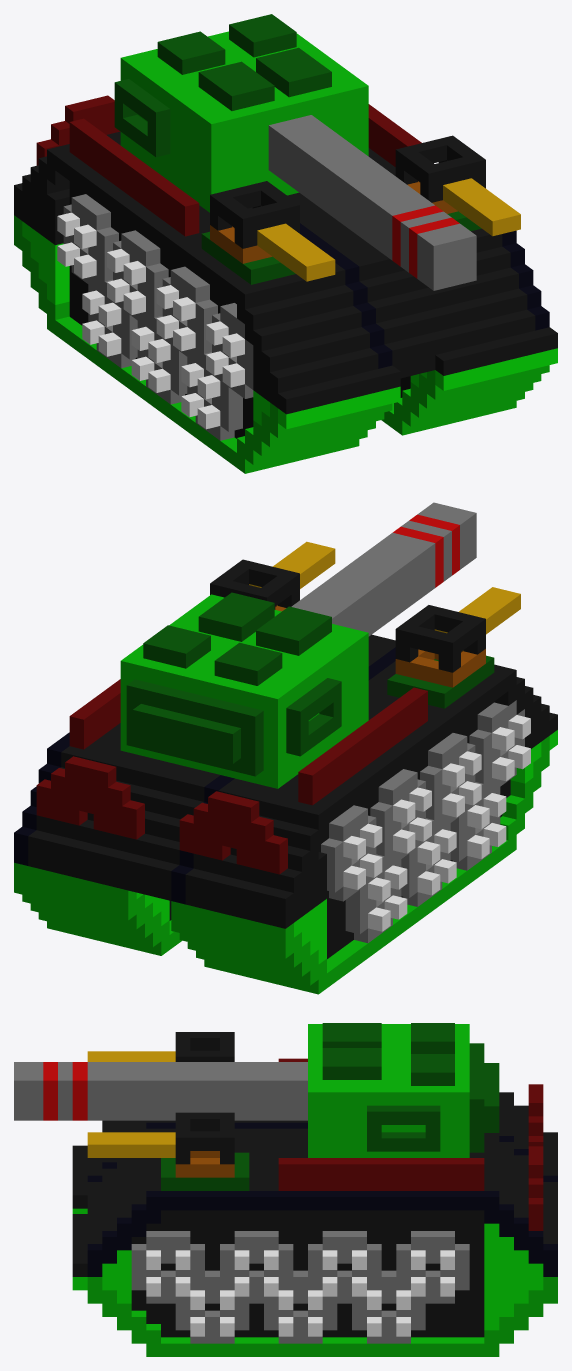
The model's file is Tank2.obj.
3 views of the same model, one above another, from view 1: azimuth 30°, elevation 25°; view 2: azimuth 150°, elevation 25°; view 3: azimuth 270°, elevation 25° (orthographic). The views are drawn at different scales.
Bounding box in the file's own units: 2.1 × 1.9 × 3.7.
Materials: 1 (1 with a texture image).
